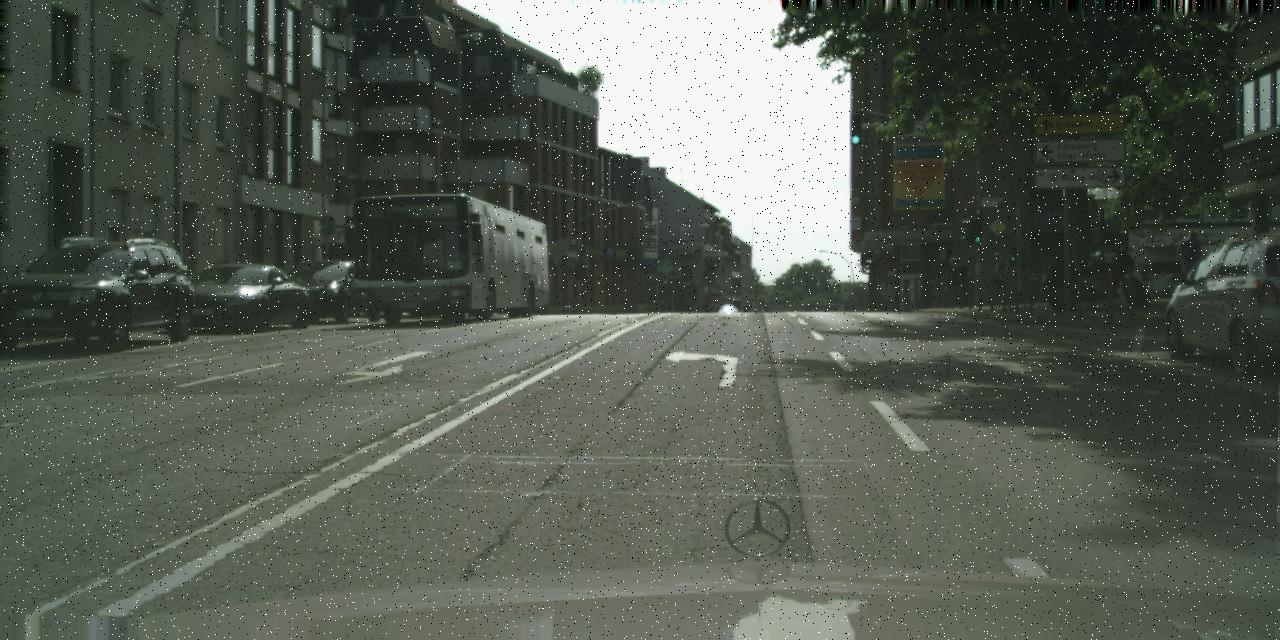ped: (1177, 230, 1207, 306), (1218, 231, 1248, 307), (988, 252, 1008, 304), (949, 258, 968, 307)
